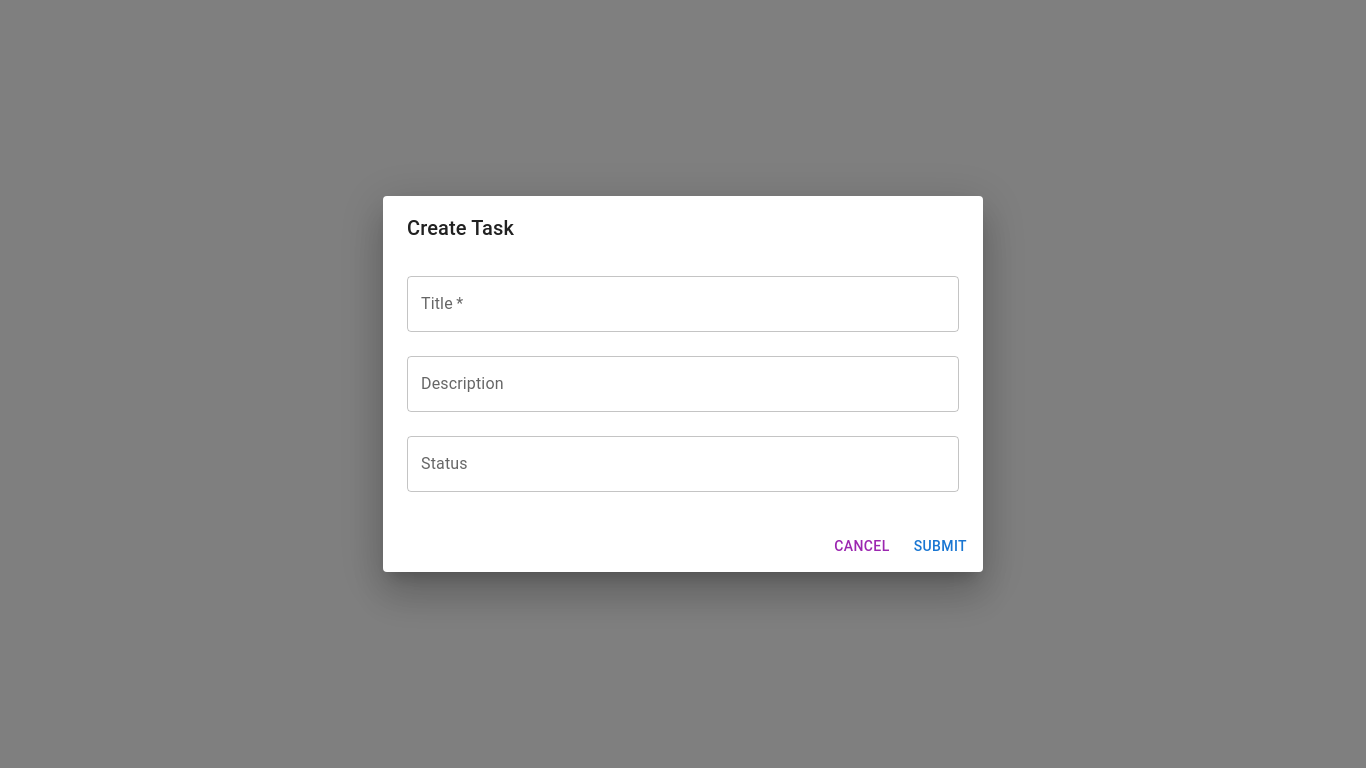
Test: TaskActionsModal › validates empty title on submission
Click the button "Submit". click: (940, 546)
box: [906,528,975,564]
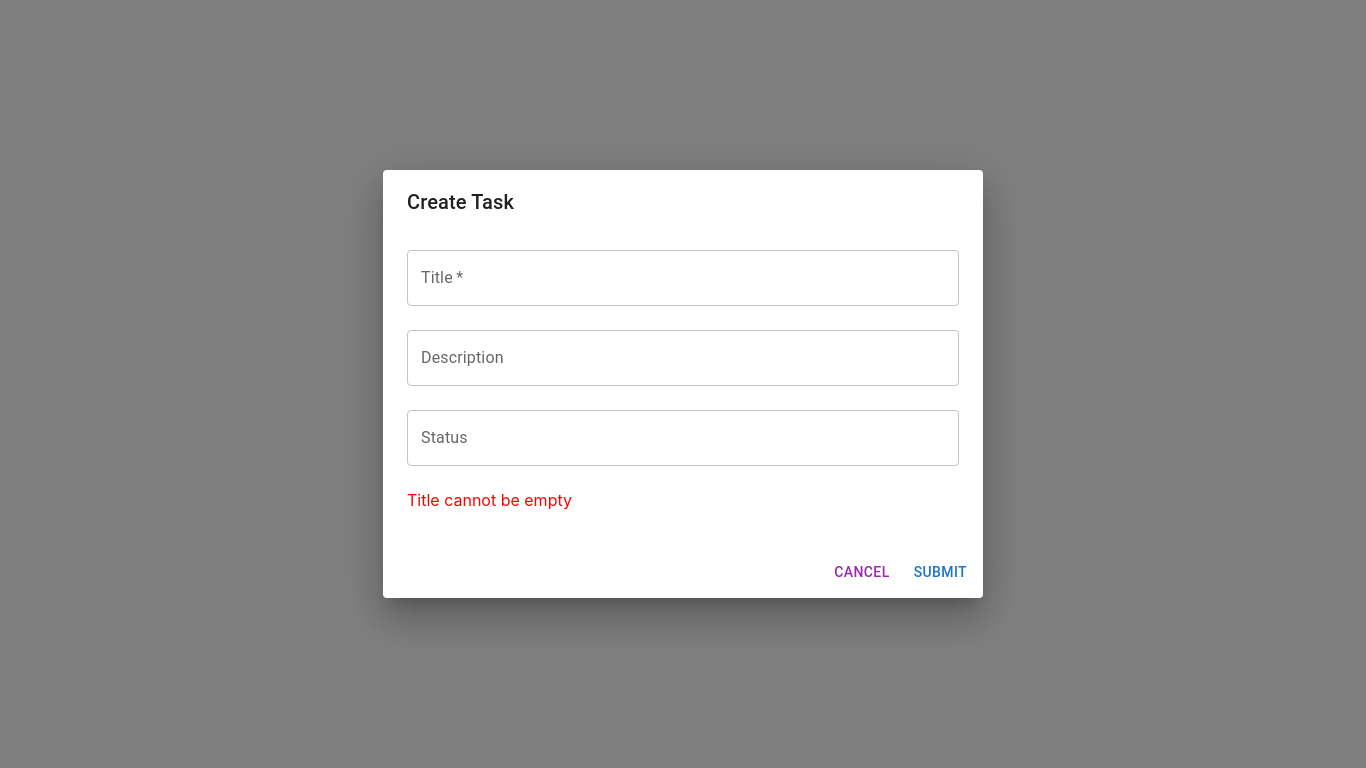
Check: the text "Title cannot be empty" is shown, box [407,490,572,510]
